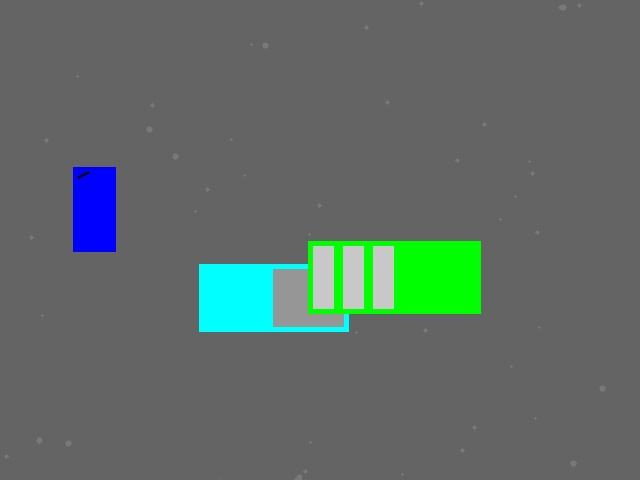bus: (308, 241, 480, 313)
motorcycle: (73, 167, 115, 251)
truck: (199, 264, 348, 331)
